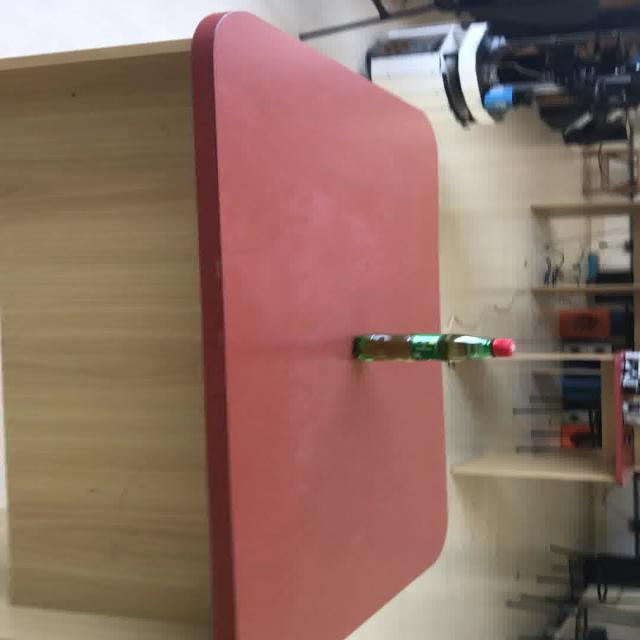guarana: (351, 332, 515, 362)
